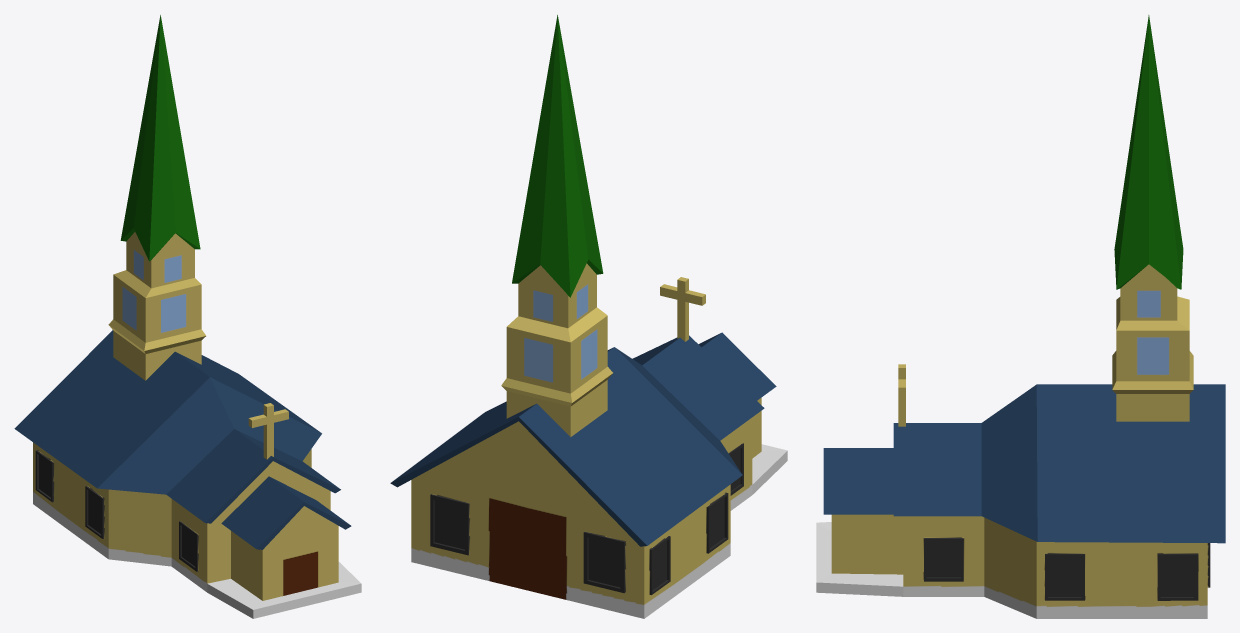
Rendered from church bake.fbx.
The picture shows the model from 3 angles, left to right: view 1: azimuth 30°, elevation 25°; view 2: azimuth 150°, elevation 25°; view 3: azimuth 270°, elevation 25°; orthographic projection. The views are drawn at different scales.
Visible parts, largest first — view 1: Cube.004; view 2: Cube.004; view 3: Cube.004.
Boxes of the visible parts, x1,y1,x2,y2 form: Cube.004: (14,15,361,618); Cube.004: (390,15,787,618); Cube.004: (816,15,1225,618).
Bounding box in the file's own units: 2583 × 5309 × 3590.
